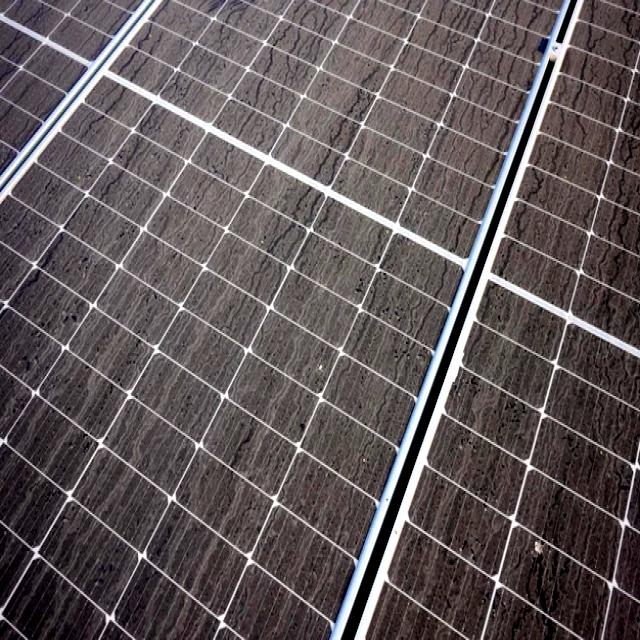dust: (442, 381, 633, 640), (60, 229, 238, 439), (20, 450, 214, 634), (118, 8, 279, 194), (234, 450, 382, 640), (293, 2, 448, 178), (538, 148, 640, 362), (279, 212, 392, 403), (1, 0, 94, 216), (465, 12, 538, 98)
